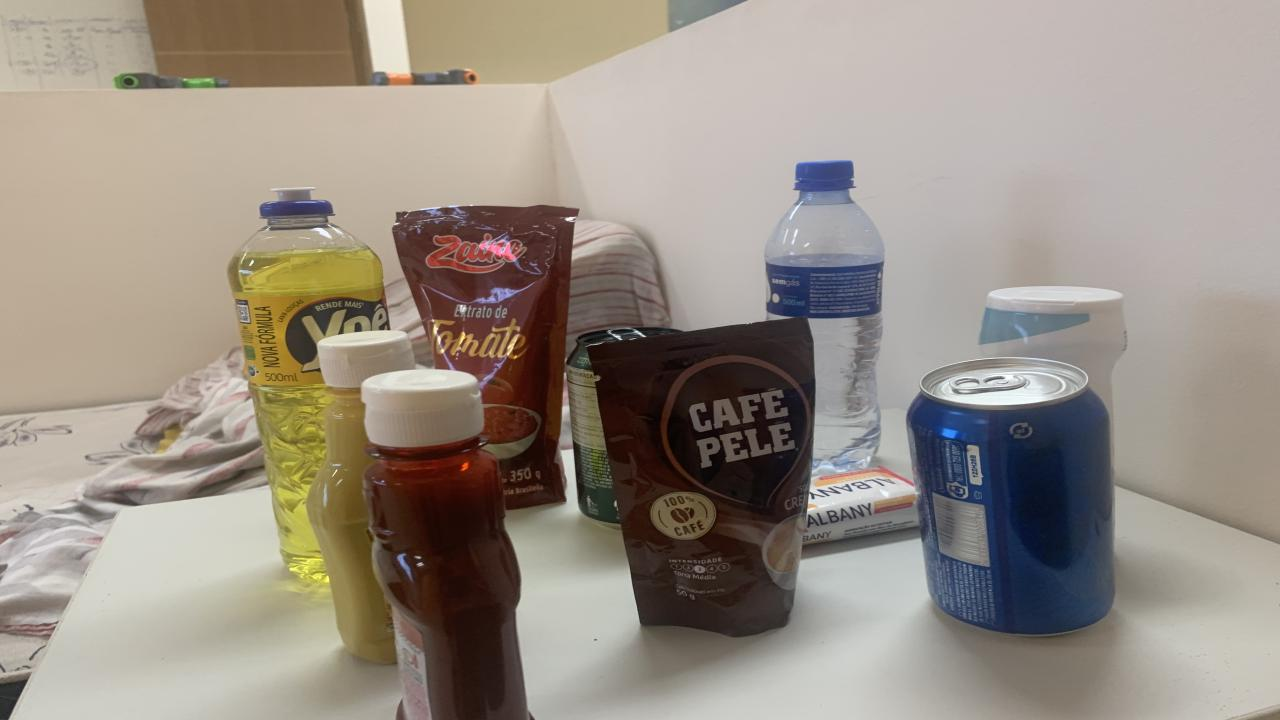Cleaner-Cleanup_Items: (980, 287, 1128, 418)
Coffee-Pantry_Items: (588, 317, 815, 636)
Detergent-Cleanup_Items: (228, 189, 390, 581)
Guarana_Can-Drinks: (565, 326, 672, 525)
Ketchup-Pantry_Items: (362, 368, 528, 720)
Mustard-Pantry_Items: (308, 330, 415, 664)
Soap-Cleanup_Items: (802, 467, 918, 544)
Tomato_Sauce-Pantry_Items: (392, 204, 578, 508)
Tonic-Drinks: (908, 356, 1115, 634)
Water_Bottle-Drinks: (765, 161, 885, 472)
